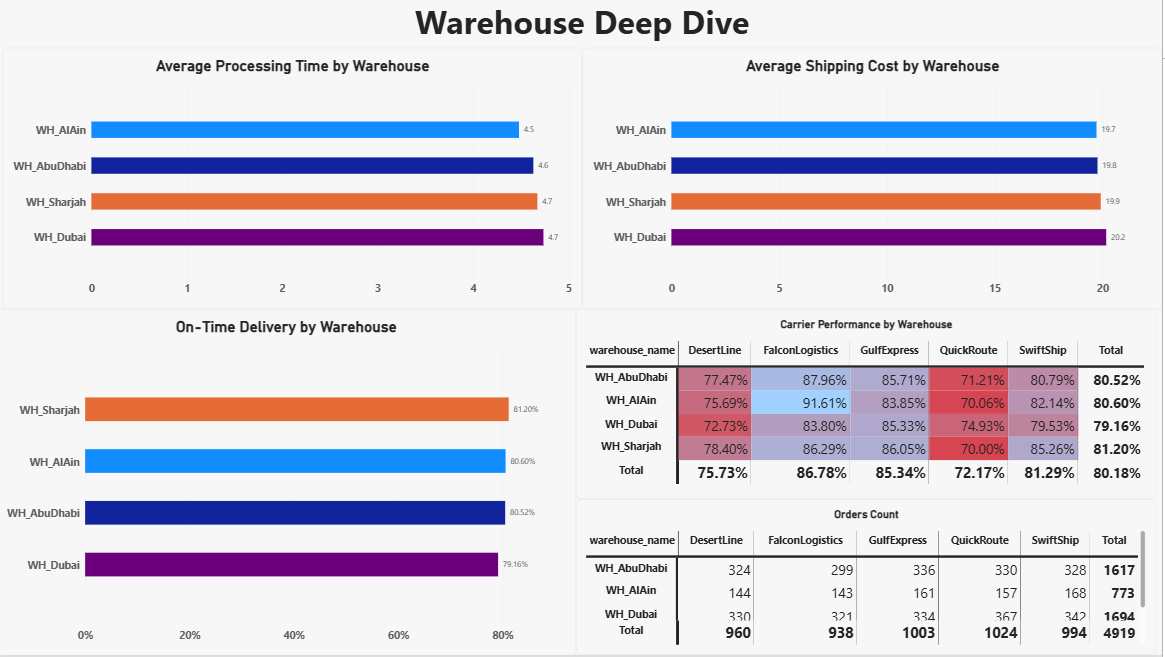

What the dashboard file says about the page in this screenshot:
{"tool":"powerbi","page":{"name":"Warehouse Deep Dive","canvas":[1920,1080],"ordinal":2},"visuals":[{"type":"textbox","box":[10.3,0,1910.1,80.3],"z":0},{"type":"clusteredBarChart","title":"Average Processing Time by Warehouse","fields":{"Category":["warehouse_logistics warehouses.warehouse_name"],"Series":["warehouse_logistics warehouses.warehouse_name"],"Y":["warehouse_logistics warehouses.Average Processing Hours"]},"box":[10.3,80.3,955.1,430.2],"z":1},{"type":"clusteredBarChart","title":"Average Shipping Cost by Warehouse","fields":{"Category":["warehouse_logistics warehouses.warehouse_name"],"Series":["warehouse_logistics warehouses.warehouse_name"],"Y":["warehouse_logistics carriers.Average Shipping Cost"]},"box":[965.4,80.3,955.1,430.2],"z":2},{"type":"clusteredBarChart","title":"On-Time Delivery by Warehouse","fields":{"Category":["warehouse_logistics warehouses.warehouse_name"],"Series":["warehouse_logistics warehouses.warehouse_name"],"Y":["warehouse_logistics carriers.On-Time Delivery %"]},"box":[0,510.5,955.1,570.2],"z":3},{"type":"pivotTable","title":"Carrier Performance by Warehouse","fields":{"Columns":["warehouse_logistics carriers.carrier_name"],"Rows":["warehouse_logistics warehouses.warehouse_name"],"Values":["warehouse_logistics carriers.On-Time Delivery %"]},"box":[955.1,510.5,955.1,312.9],"z":4},{"type":"pivotTable","title":"Orders Count ","fields":{"Columns":["warehouse_logistics carriers.carrier_name"],"Rows":["warehouse_logistics warehouses.warehouse_name"],"Values":["warehouse_logistics carriers.Orders Count"]},"box":[955,823,955,257],"z":5}]}

Visuals, with their boxes in screenshot pixels (x1, y1, x2, y2), scaled from the page's 1920x1080 canvas onto the 1165x657 screenshot:
textbox: [left=6, top=0, right=1164, bottom=49]
"Average Processing Time by Warehouse" clusteredBarChart: [left=6, top=49, right=586, bottom=311]
"Average Shipping Cost by Warehouse" clusteredBarChart: [left=586, top=49, right=1164, bottom=311]
"On-Time Delivery by Warehouse" clusteredBarChart: [left=0, top=311, right=580, bottom=656]
"Carrier Performance by Warehouse" pivotTable: [left=580, top=311, right=1159, bottom=501]
"Orders Count " pivotTable: [left=579, top=501, right=1159, bottom=656]
